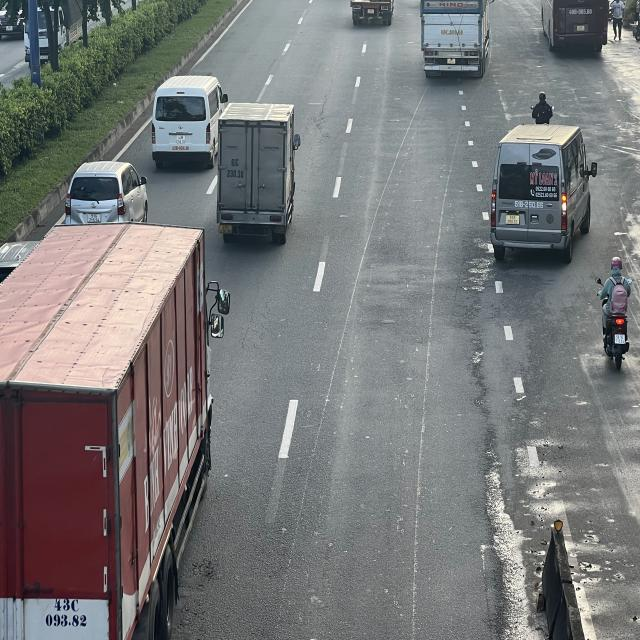car: (66, 161, 151, 227)
coach: (542, 0, 608, 50)
truck: (1, 228, 229, 640), (216, 102, 304, 242), (422, 0, 496, 76)
van: (492, 125, 600, 262), (152, 76, 228, 170)
